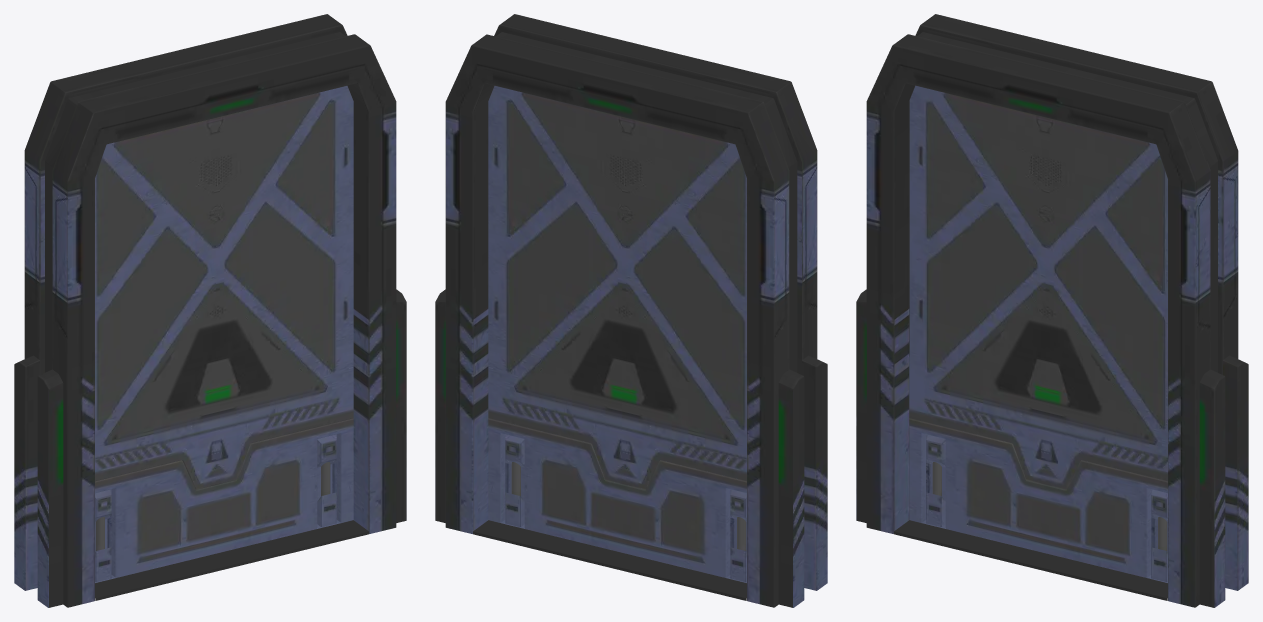
The model's file is door.glb.
The picture shows the model from 3 angles, left to right: view 1: azimuth 30°, elevation 25°; view 2: azimuth 150°, elevation 25°; view 3: azimuth 330°, elevation 25°; orthographic projection.
Visible parts, largest first — view 1: mScifi_Door01Up_M_door01_Dark_0, mScifi_Door01Frame_M_door01Frame_Dark_0, mScifi_Door01Down_M_door01_Dark_0, mScifi_Door01lock_down_1_M_door01_Dark_0; view 2: mScifi_Door01Up_M_door01_Dark_0, mScifi_Door01Frame_M_door01Frame_Dark_0, mScifi_Door01Down_M_door01_Dark_0, mScifi_Door01lock_down_1_M_door01_Dark_0; view 3: mScifi_Door01Up_M_door01_Dark_0, mScifi_Door01Frame_M_door01Frame_Dark_0, mScifi_Door01Down_M_door01_Dark_0, mScifi_Door01lock_down_1_M_door01_Dark_0.
Boxes of the visible parts, left/top/right/bottom form: mScifi_Door01Up_M_door01_Dark_0: left=95, top=86, right=353, bottom=489; mScifi_Door01Frame_M_door01Frame_Dark_0: left=14, top=14, right=406, bottom=607; mScifi_Door01Down_M_door01_Dark_0: left=95, top=418, right=353, bottom=582; mScifi_Door01lock_down_1_M_door01_Dark_0: left=95, top=492, right=336, bottom=581; mScifi_Door01Up_M_door01_Dark_0: left=488, top=86, right=746, bottom=489; mScifi_Door01Frame_M_door01Frame_Dark_0: left=435, top=14, right=827, bottom=607; mScifi_Door01Down_M_door01_Dark_0: left=488, top=418, right=746, bottom=582; mScifi_Door01lock_down_1_M_door01_Dark_0: left=505, top=492, right=746, bottom=581; mScifi_Door01Up_M_door01_Dark_0: left=909, top=85, right=1167, bottom=489; mScifi_Door01Frame_M_door01Frame_Dark_0: left=856, top=14, right=1248, bottom=607; mScifi_Door01Down_M_door01_Dark_0: left=909, top=418, right=1167, bottom=582; mScifi_Door01lock_down_1_M_door01_Dark_0: left=926, top=492, right=1167, bottom=581.
Size of the model in its own units: 2.02 by 2.62 by 0.4226.
2 materials, 2 textured.
